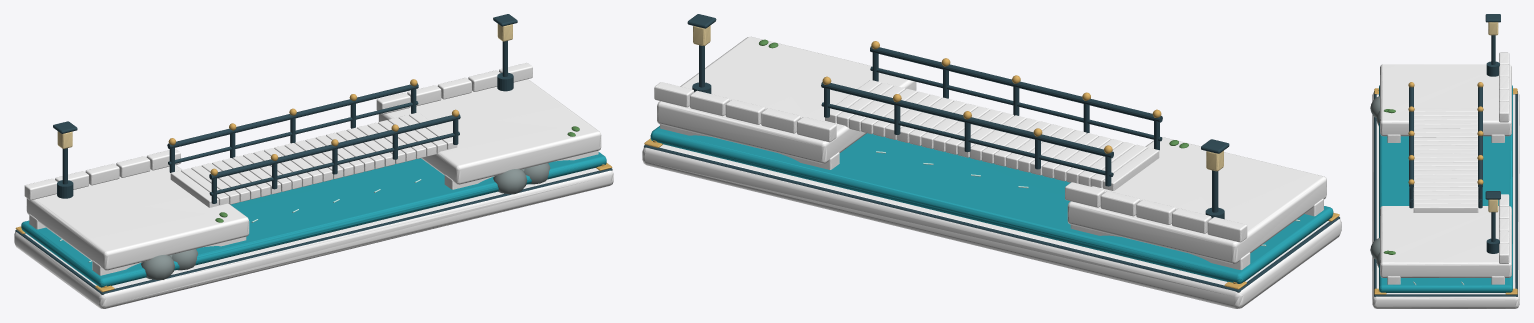
The model's file is TorchBridgeStage.glb.
3 views of the same model, side by side, from view 1: azimuth 30°, elevation 25°; view 2: azimuth 150°, elevation 25°; view 3: azimuth 270°, elevation 25° (orthographic). The views are drawn at different scales.
Parts seen in each view (by area): view 1: TorchBridgeStage_RK_Stone_Puzzle, TorchBridgeStage_RK_Wood_Puzzle, River.001, TorchBridgeStage_PUZ_NavyIron, TorchBridgeStage_PUZ_Rock, TorchBridgeStage_PUZ_Brass, TorchBridgeStage_PUZ_Flower; view 2: TorchBridgeStage_RK_Stone_Puzzle, TorchBridgeStage_RK_Wood_Puzzle, River.001, TorchBridgeStage_PUZ_NavyIron, TorchBridgeStage_PUZ_Brass, TorchBridgeStage_PUZ_Flower; view 3: TorchBridgeStage_RK_Stone_Puzzle, TorchBridgeStage_RK_Wood_Puzzle, River.001, TorchBridgeStage_PUZ_NavyIron, TorchBridgeStage_PUZ_Brass, TorchBridgeStage_PUZ_Rock, TorchBridgeStage_PUZ_Flower.
Part boxes in pixels (x1,y1,x2,y2): TorchBridgeStage_RK_Stone_Puzzle: (24,62,601,275); TorchBridgeStage_RK_Wood_Puzzle: (14,112,613,308); River.001: (21,152,606,287); TorchBridgeStage_PUZ_NavyIron: (15,14,612,294); TorchBridgeStage_PUZ_Rock: (141,163,550,280); TorchBridgeStage_PUZ_Brass: (15,79,612,292); TorchBridgeStage_PUZ_Flower: (57,24,512,148); TorchBridgeStage_RK_Stone_Puzzle: (654,36,1326,269); TorchBridgeStage_RK_Wood_Puzzle: (642,80,1341,308); River.001: (650,126,1333,283); TorchBridgeStage_PUZ_NavyIron: (644,14,1339,292); TorchBridgeStage_PUZ_Brass: (644,41,1339,289); TorchBridgeStage_PUZ_Flower: (693,25,1223,171); TorchBridgeStage_RK_Stone_Puzzle: (1380,52,1511,284); TorchBridgeStage_RK_Wood_Puzzle: (1372,92,1519,308); River.001: (1379,85,1512,292); TorchBridgeStage_PUZ_NavyIron: (1374,14,1517,296); TorchBridgeStage_PUZ_Brass: (1374,82,1517,294); TorchBridgeStage_PUZ_Rock: (1370,96,1379,267); TorchBridgeStage_PUZ_Flower: (1488,22,1498,212).
Size of the model in its own units: 7.25 by 1.66 by 2.21.
